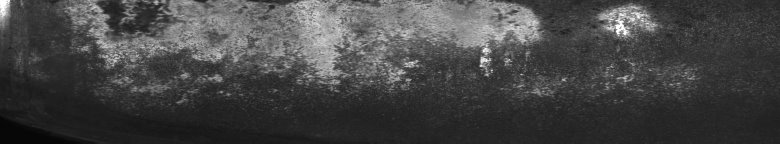kb: (92, 4, 700, 105)
